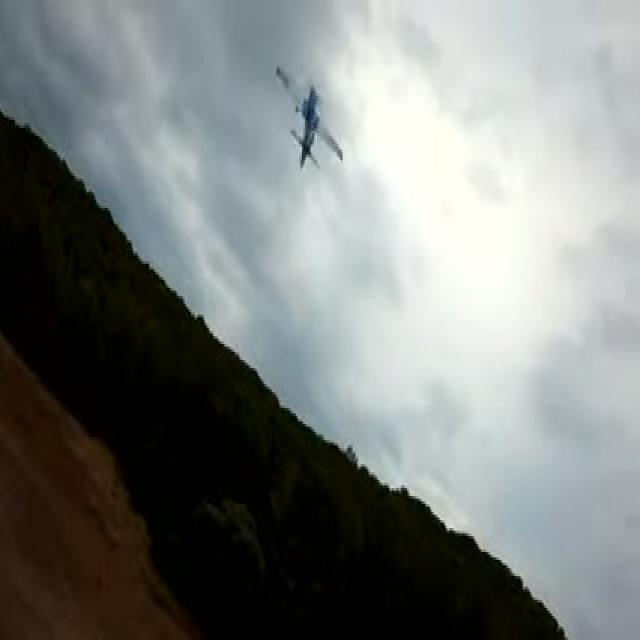iha: (308, 32, 311, 75)
